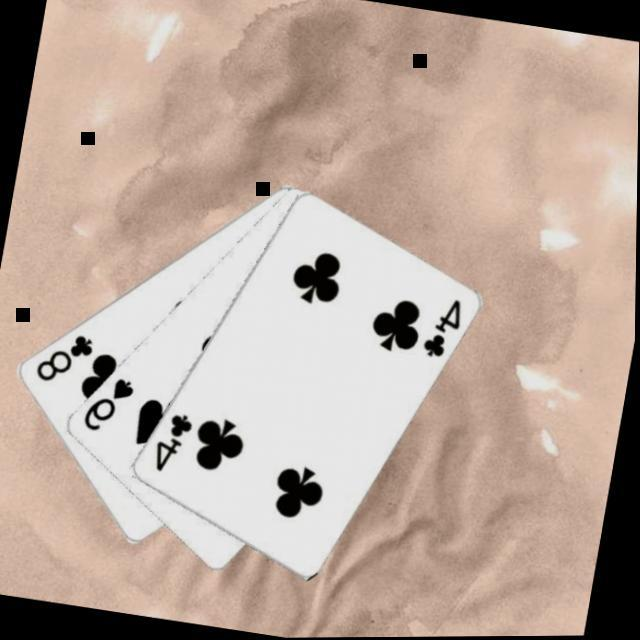4C: (416, 295, 467, 367), (147, 409, 196, 480)
6S: (77, 372, 139, 441)
8C: (30, 326, 98, 393)
